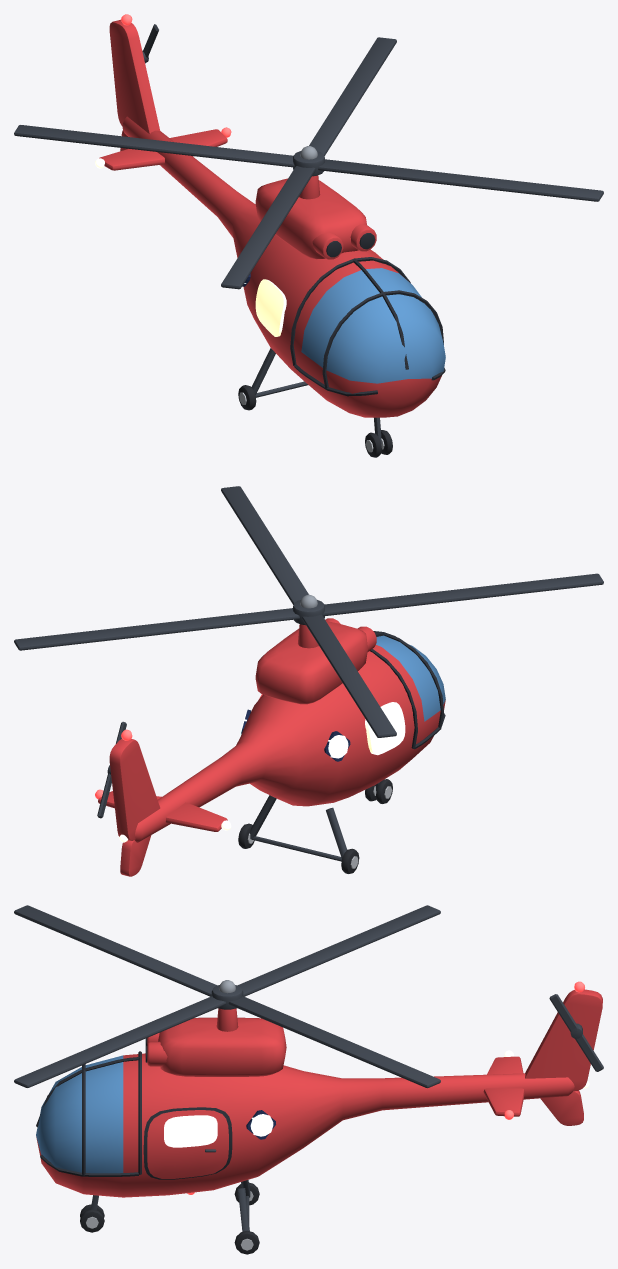
File: helicoptero_vermelho.glb
The picture shows the model from 3 angles, top to bottom: view 1: azimuth 30°, elevation 25°; view 2: azimuth 150°, elevation 25°; view 3: azimuth 270°, elevation 25°; orthographic projection. The views are drawn at different scales.
Parts seen in each view (by area): view 1: helicoptero_vermelho, rotor_principal, roda_frente; view 2: helicoptero_vermelho, rotor_principal, rodas_tras; view 3: helicoptero_vermelho, rotor_principal, porta_cabine, rotor_cauda, rodas_tras, roda_frente.
Part boxes in pixels (<box>): helicoptero_vermelho: <box>95,19,445,443</box>; rotor_principal: <box>14,37,603,289</box>; roda_frente: <box>365,430,392,457</box>; helicoptero_vermelho: <box>95,618,445,876</box>; rotor_principal: <box>14,486,603,737</box>; rodas_tras: <box>238,823,359,873</box>; helicoptero_vermelho: <box>36,989,602,1231</box>; rotor_principal: <box>14,905,440,1088</box>; porta_cabine: <box>147,1110,228,1178</box>; rotor_cauda: <box>549,994,603,1071</box>; rodas_tras: <box>234,1182,259,1254</box>; roda_frente: <box>80,1204,104,1232</box>.
Size of the model in its own units: 7.58 by 4.87 by 10.47.
6 materials, 1 textured.
